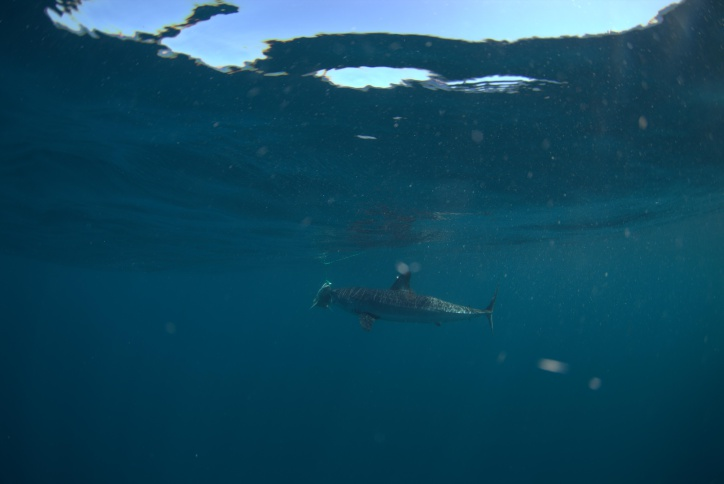Mako: (297, 264, 520, 345)
